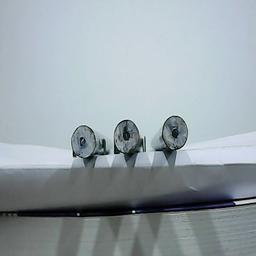pen: (70, 124, 97, 159), (161, 115, 188, 150), (112, 119, 139, 154)
